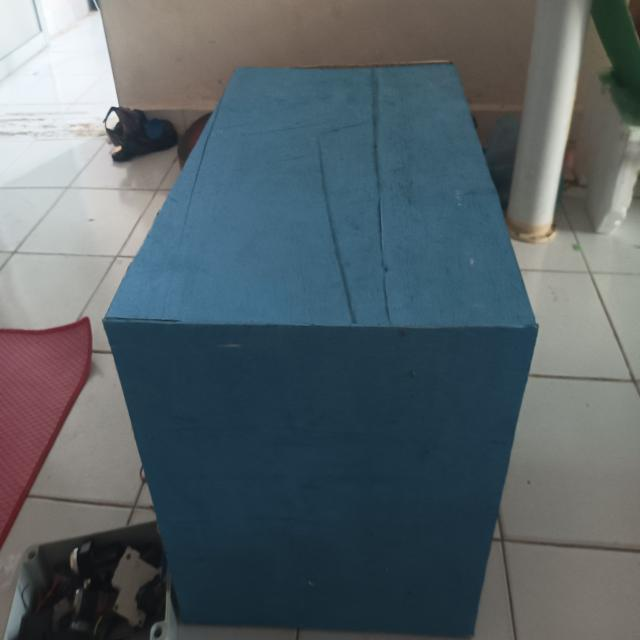blue_box: (106, 22, 540, 640)
